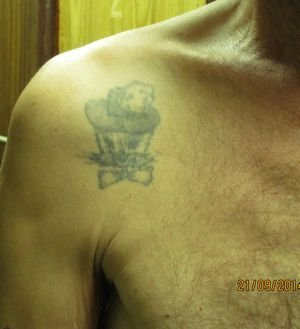tatu8_kot: (74, 74, 173, 191)
